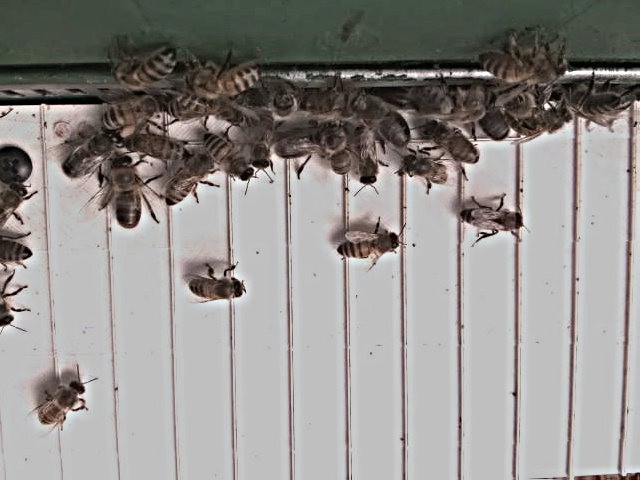Drone: (107, 153, 146, 234), (364, 94, 414, 155), (61, 130, 118, 182)
Worker: (423, 121, 486, 169), (163, 154, 216, 210), (204, 133, 256, 189), (38, 379, 90, 430), (336, 227, 406, 264), (461, 202, 524, 237), (127, 130, 191, 163), (353, 128, 381, 193), (188, 274, 250, 302)
